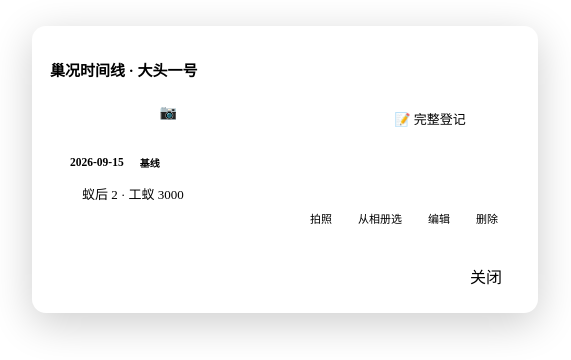
Test: NestCheckinDialog（webui-checkin 票 02） › 删除两段确认：第一次只进入确认态，第二次才发 delete_checkin
Click the button with class "entry-delete-btn" at (487,218), box left=466, top=208, right=508, bottom=226
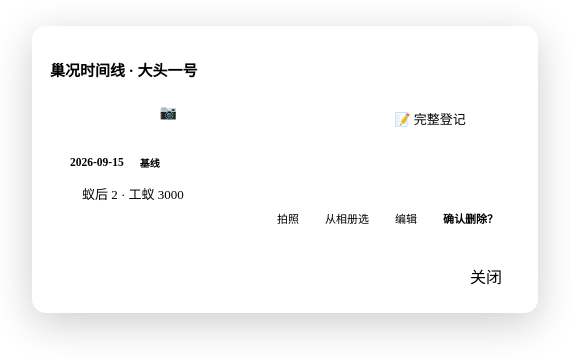
Check: the button with class "entry-delete-btn" reads "确认删除？"
Click the button with class "entry-delete-btn" at (470,218), box left=433, top=208, right=508, bottom=226
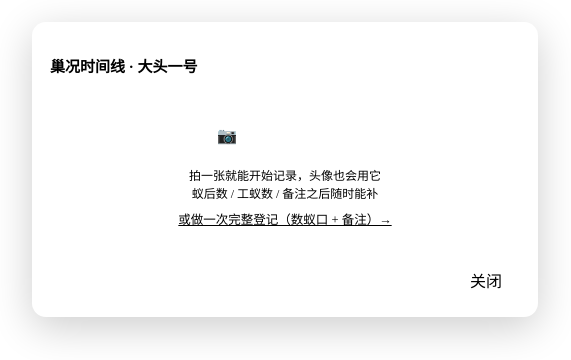
Check: no list items with class "entry" are shown
